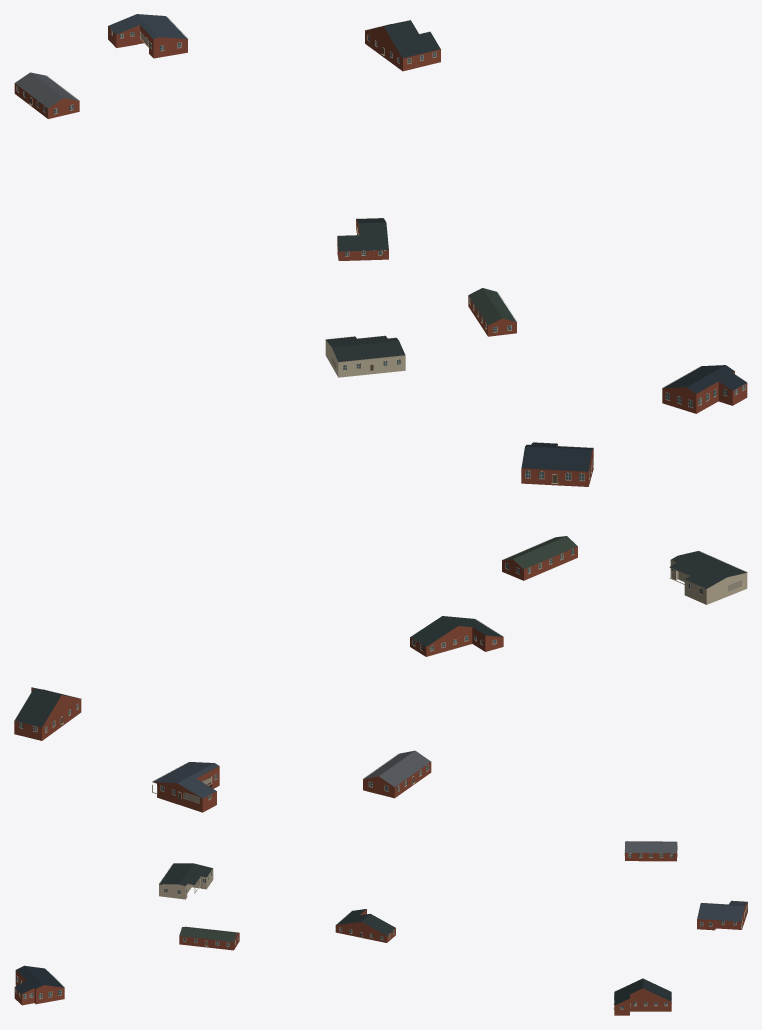
The picture shows the model from 3 angles, top to bottom: view 1: azimuth 30°, elevation 25°; view 2: azimuth 150°, elevation 25°; view 3: azimuth 270°, elevation 25°; orthographic projection. The views are drawn at different scales.
Parts seen in each view (by area): view 1: -6_2_607922766_3, -6_2_607924442_15; view 2: -6_2_607922766_3, -6_2_607924442_15; view 3: -6_2_607922766_3, -6_2_607924442_15.
Part boxes in pixels (x1,y1,x2,y2): -6_2_607922766_3: [14, 14, 747, 413]; -6_2_607924442_15: [325, 340, 405, 377]; -6_2_607922766_3: [14, 442, 747, 812]; -6_2_607924442_15: [669, 560, 747, 604]; -6_2_607922766_3: [14, 841, 747, 1015]; -6_2_607924442_15: [159, 868, 213, 899].
Size of the model in its own units: 145 by 27.09 by 309.
